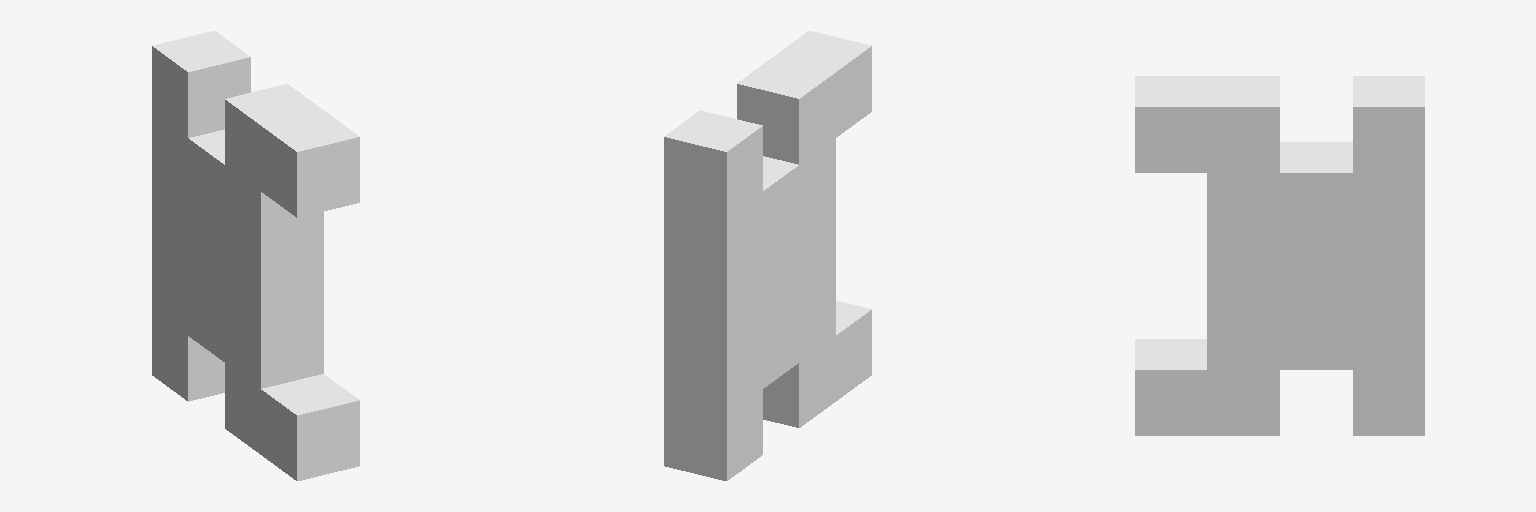
File: BombPort2.obj
3 renders of one model, left to right at view 1: azimuth 30°, elevation 25°; view 2: azimuth 150°, elevation 25°; view 3: azimuth 270°, elevation 25°, orthographic.
Visible parts, largest first — view 1: object 1; view 2: object 1; view 3: object 1.
Part boxes in pixels (bbox=[...]): object 1: bbox=[152, 31, 359, 480]; object 1: bbox=[664, 31, 871, 480]; object 1: bbox=[1135, 76, 1424, 435].
Size of the model in its own units: 0.1 by 0.5 by 0.4.